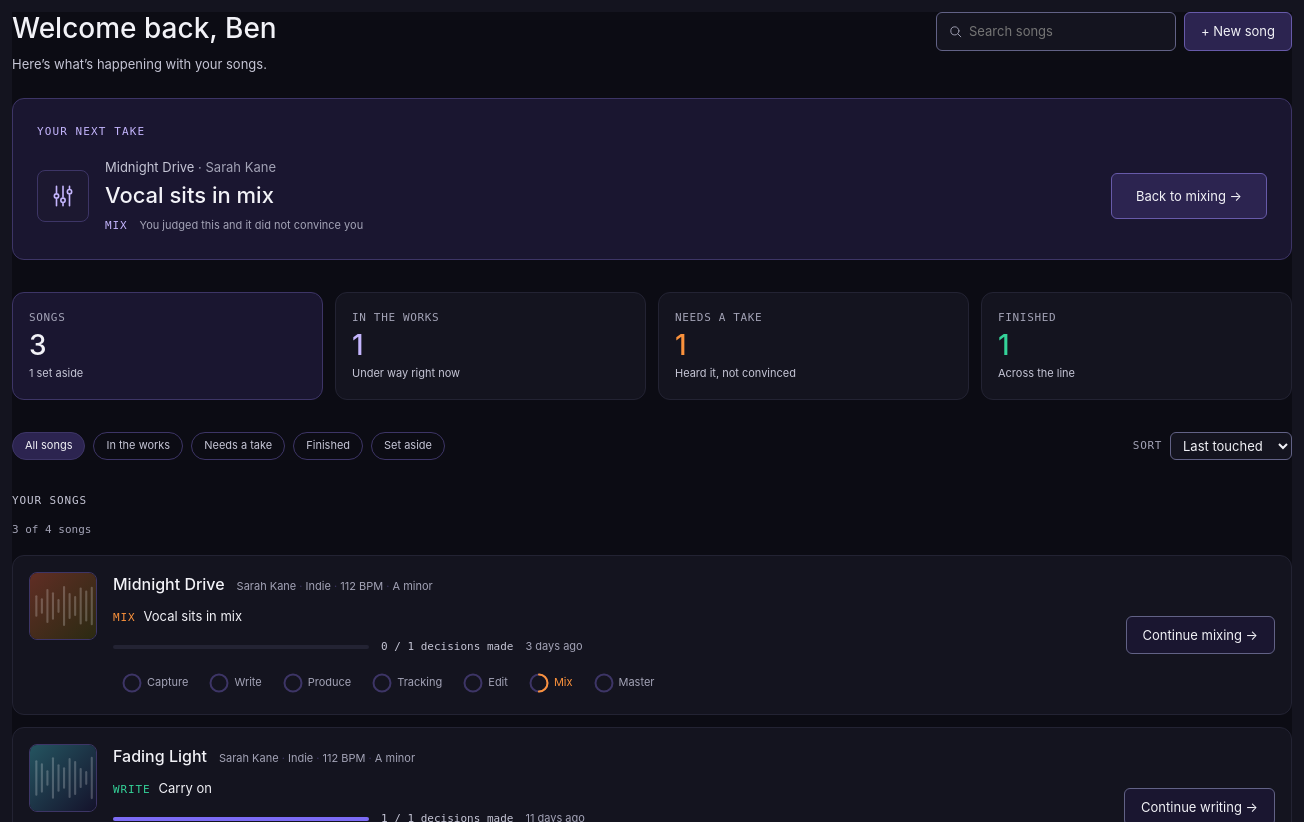
the dashboard › filters from a summary card, not only from the chips
The image size is (1304, 822).
Check: the heading "Welcome back, Ben" is shown, box x1=12 y1=12 x2=277 y2=46
Click the button "Needs a take 1 Heard it, not convinced". click: [719, 317]
box: x1=658 y1=292 x2=969 y2=400
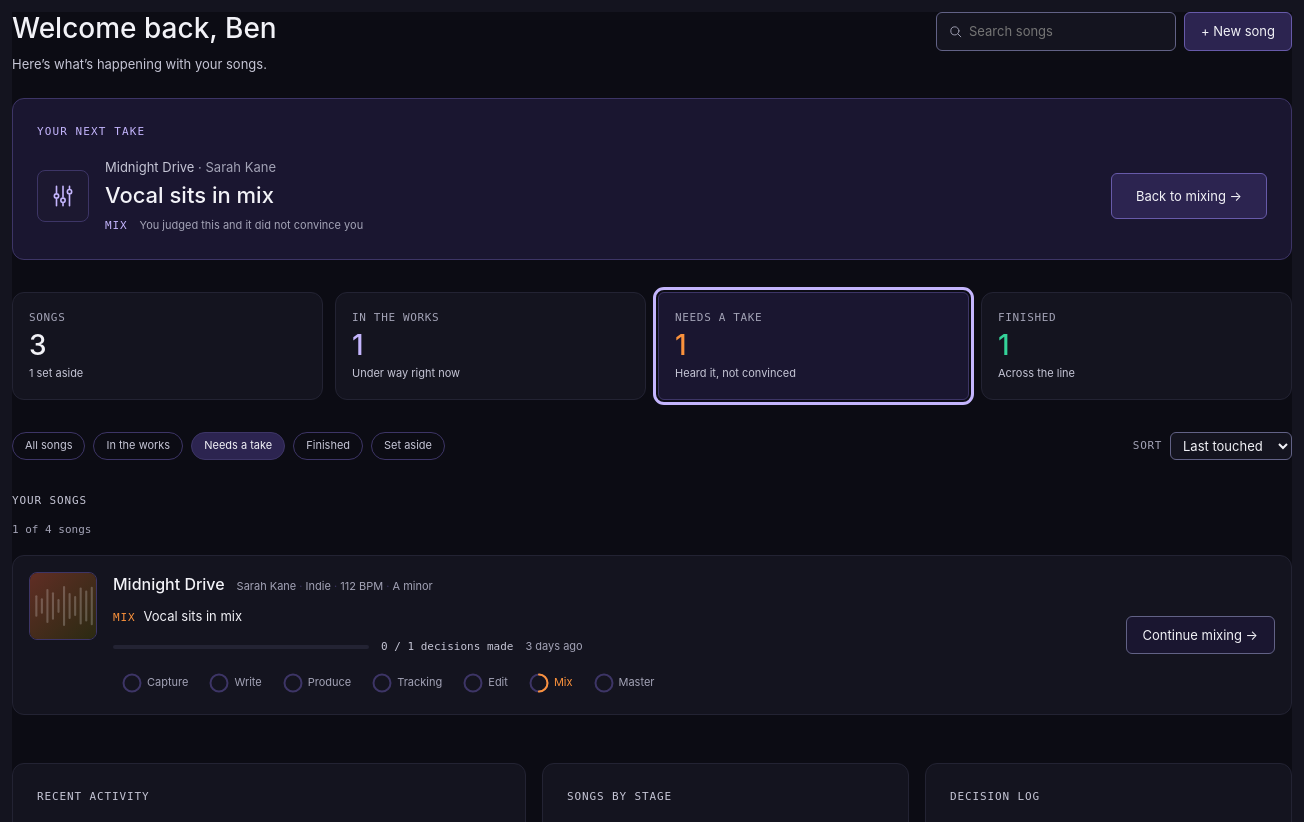
Check: the heading "Midnight Drive" is shown, box x1=113 y1=572 x2=225 y2=598
Check: the heading "Fading Light" is gone
